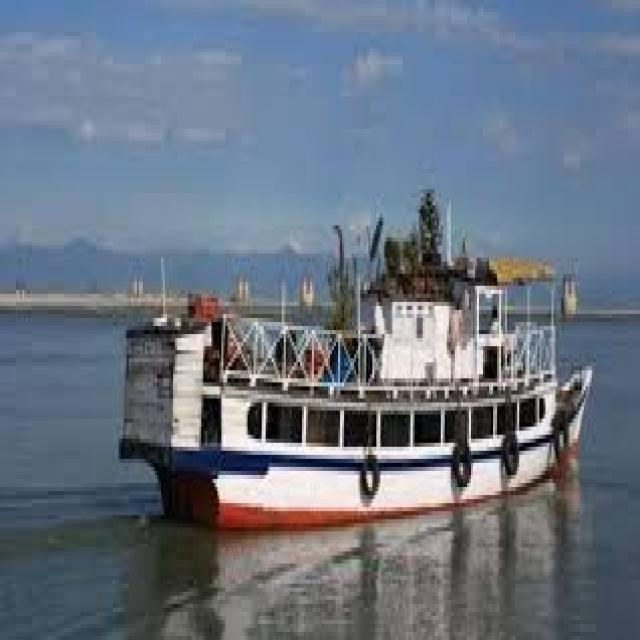fishing boat: (111, 213, 594, 527)
